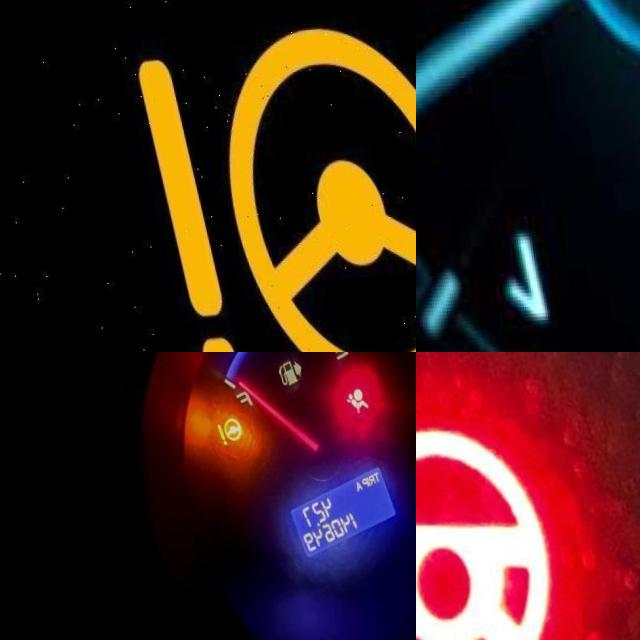Electronic Power Steering: (416, 420, 557, 640), (208, 420, 241, 449)
Electronic Power Steering Warning: (134, 29, 416, 352)
